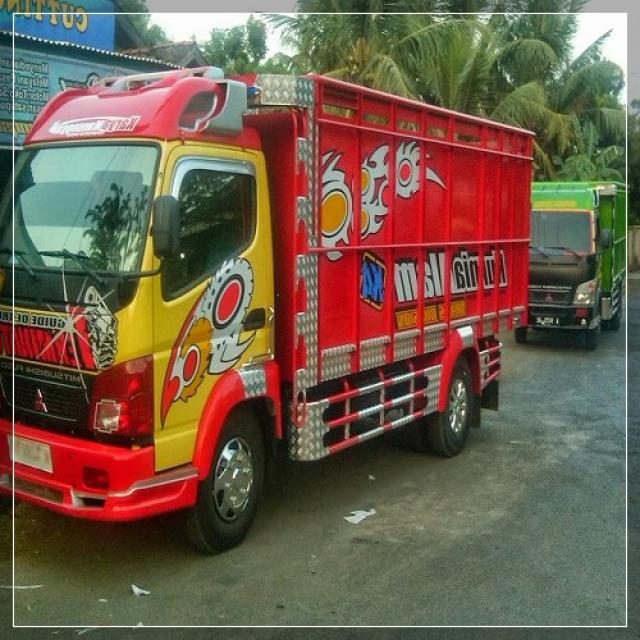truck: (0, 60, 529, 536), (508, 177, 626, 353)
